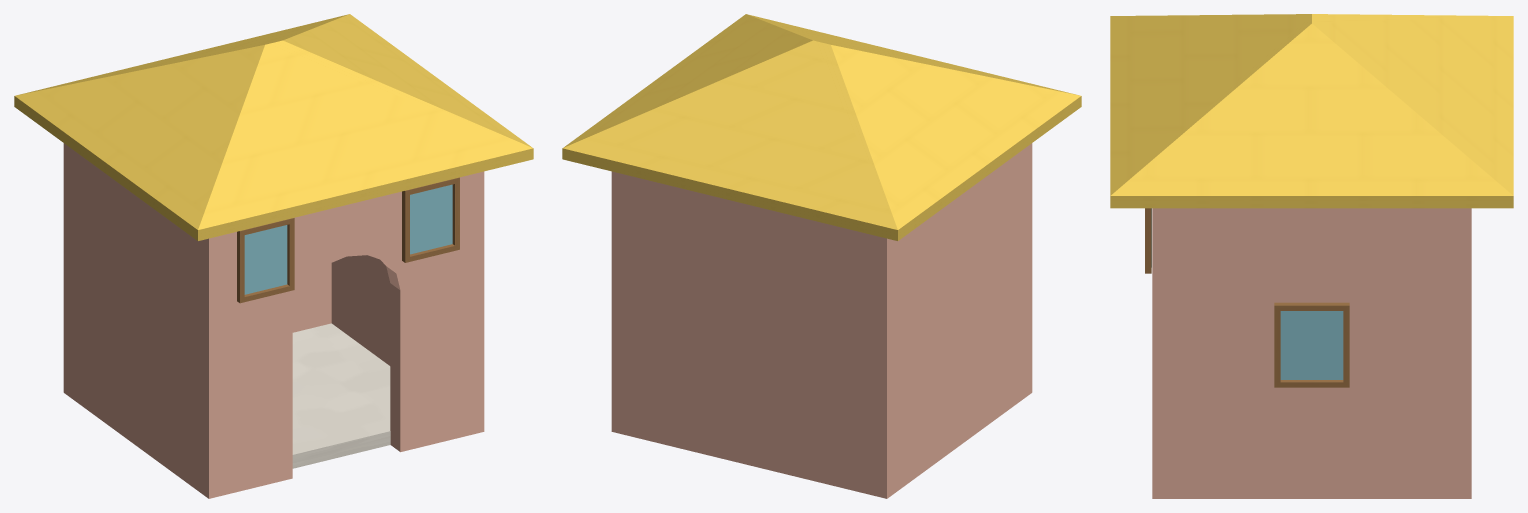
Rendered from town_house_coral.glb.
3 views of the same model, side by side, from view 1: azimuth 30°, elevation 25°; view 2: azimuth 150°, elevation 25°; view 3: azimuth 270°, elevation 25° (orthographic). The views are drawn at different scales.
Visible parts, largest first — view 1: beach_town_house_coral; view 2: beach_town_house_coral; view 3: beach_town_house_coral.
Boxes of the visible parts, x1,y1,x2,y2 form: beach_town_house_coral: [14, 14, 533, 498]; beach_town_house_coral: [562, 14, 1081, 498]; beach_town_house_coral: [1110, 14, 1513, 498].
Bounding box in the file's own units: 3.8 × 4 × 3.6.
Materials: 1 (1 with a texture image).
